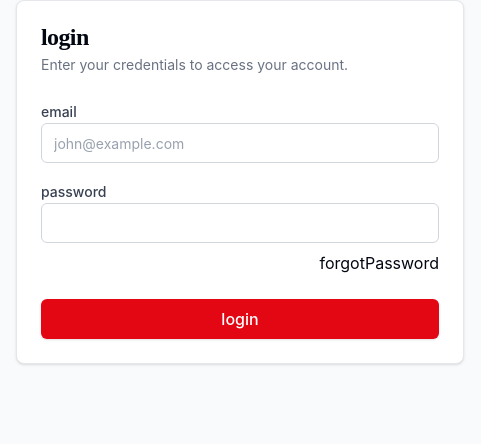
Test: LoginForm UI › should display error message on failed login
In the field labelled "email": point(240, 143) [41,123,439,163], type "test@example.com"
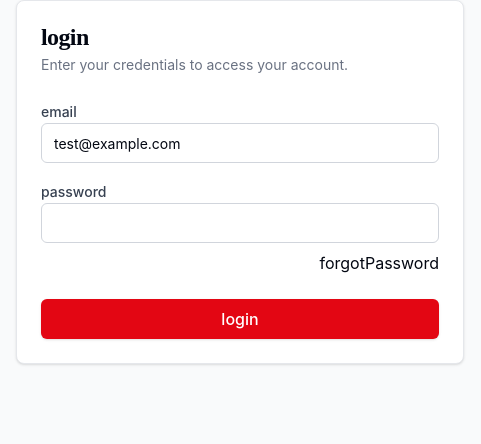
In the password field labelled "password": point(240, 223) [41,203,439,243], type "password"
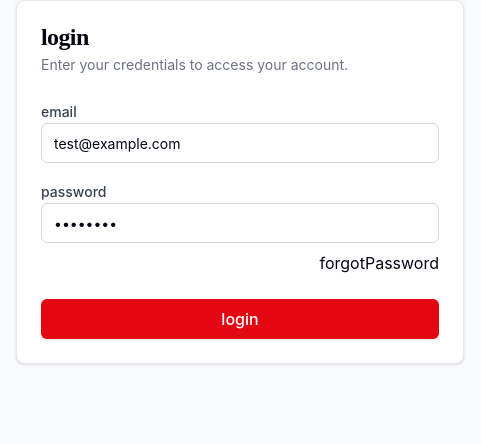
Click the button "login": point(240, 319) [41,299,439,339]
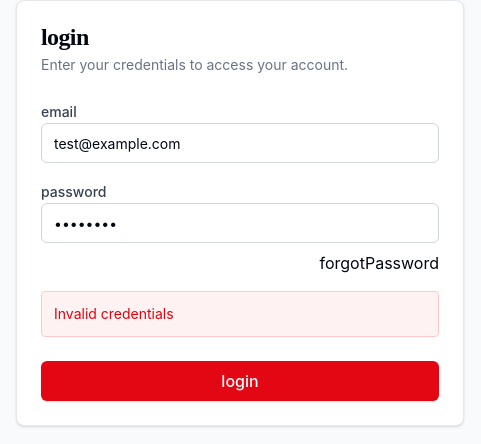
Result: the message reads "Invalid credentials" at [54,305,174,322]
